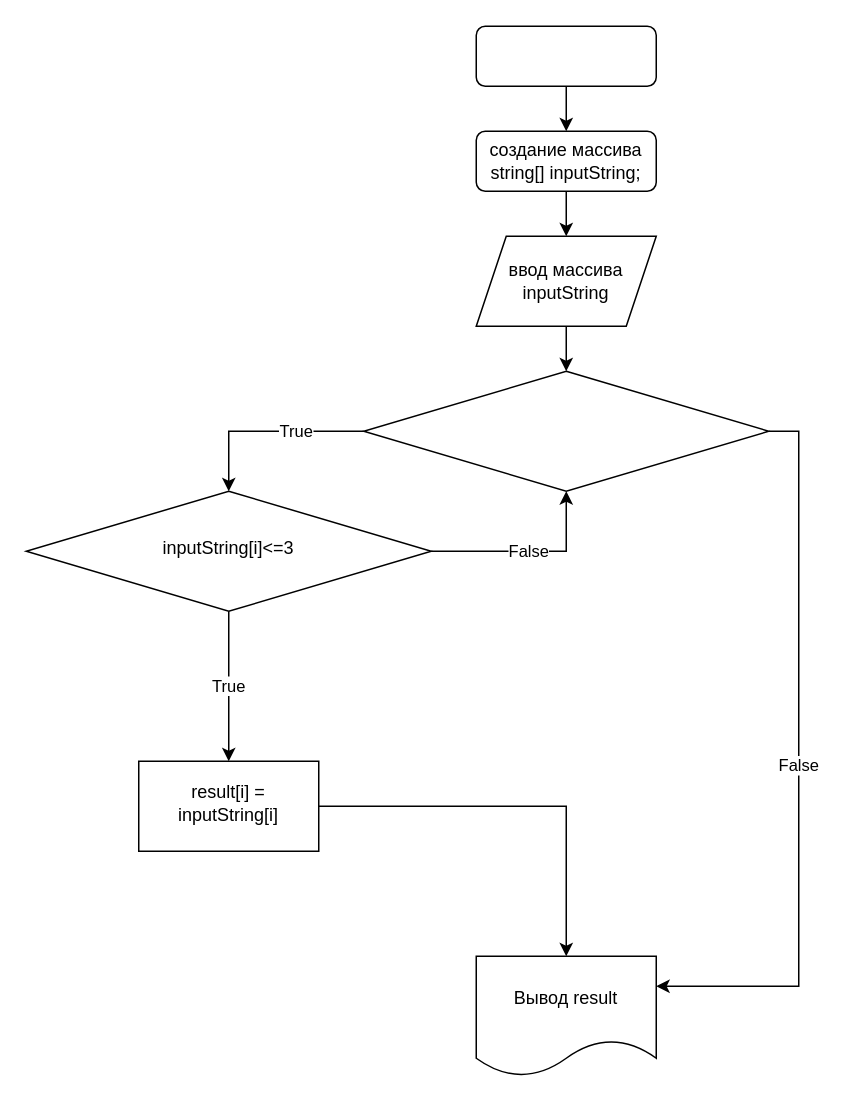
This 845x1103 diagram has some shape labels left out. Each missing label, with the centre of its shape:
"i < inputString.Length" belongs at [565,430].
"начало" belongs at [565,55].
